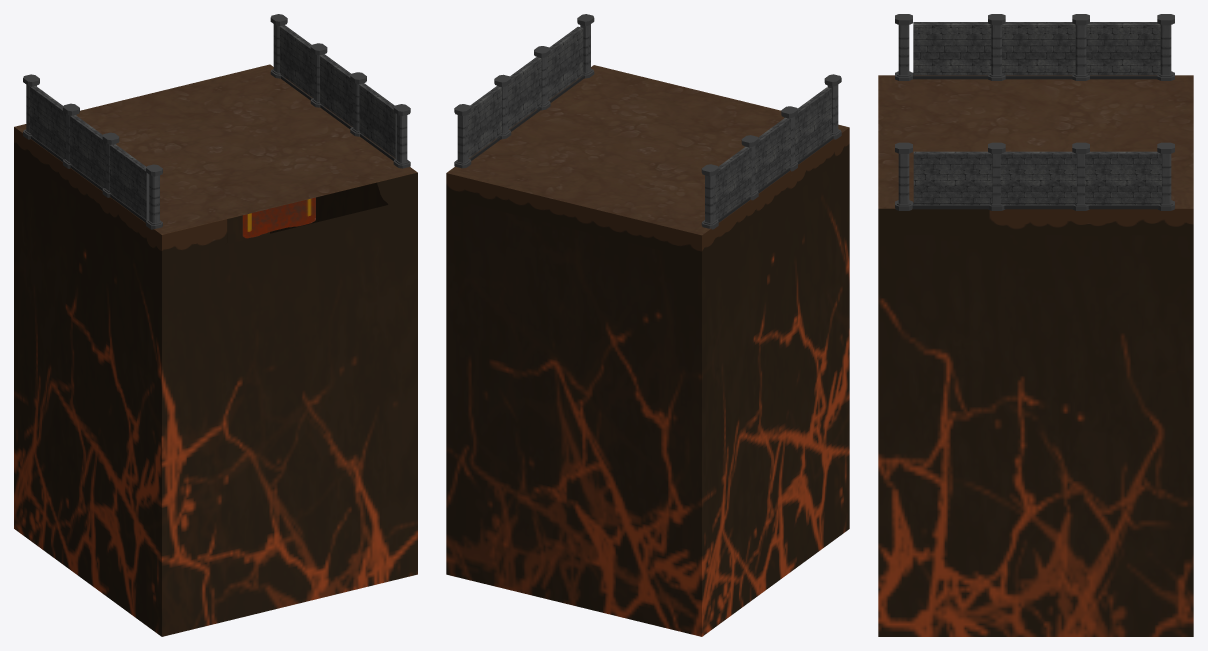
The model's file is Plataforma 1.fbx.
3 views of the same model, side by side, from view 1: azimuth 30°, elevation 25°; view 2: azimuth 150°, elevation 25°; view 3: azimuth 270°, elevation 25° (orthographic). The views are drawn at different scales.
Visible parts, largest first — view 1: Plataforma 1.005, Muro.014, Muro.009, Muro.013, Muro.012, Muro.011, Muro.010, Pilar.014, Pilar.015, Pilar.012, Pilar.009, Pilar.008; view 2: Plataforma 1.005, Muro.014, Muro.009, Muro.012, Muro.013, Muro.011, Muro.010, Pilar.012, Pilar.013, Pilar.014, Pilar.015, Pilar.008; view 3: Plataforma 1.005, Muro.009, Muro.014, Muro.011, Muro.010, Muro.012, Muro.013, Pilar.014, Pilar.015, Pilar.013, Pilar.010, Pilar.011 (+3 smaller).
Boxes of the visible parts, left/top/right/bottom form: Plataforma 1.005: left=14, top=64, right=417, bottom=636; Muro.014: left=109, top=144, right=149, bottom=222; Muro.009: left=359, top=83, right=396, bottom=160; Muro.013: left=70, top=115, right=105, bottom=190; Muro.012: left=30, top=86, right=65, bottom=161; Muro.011: left=279, top=25, right=313, bottom=100; Muro.010: left=319, top=54, right=353, bottom=128; Pilar.014: left=393, top=104, right=410, bottom=168; Pilar.015: left=146, top=164, right=162, bottom=229; Pilar.012: left=270, top=14, right=287, bottom=78; Pilar.009: left=310, top=43, right=327, bottom=107; Pilar.008: left=350, top=72, right=366, bottom=136; Plataforma 1.005: left=446, top=65, right=849, bottom=636; Muro.014: left=795, top=87, right=833, bottom=164; Muro.009: left=547, top=26, right=584, bottom=102; Muro.012: left=715, top=146, right=751, bottom=222; Muro.013: left=755, top=117, right=790, bottom=193; Muro.011: left=468, top=85, right=501, bottom=160; Muro.010: left=508, top=57, right=541, bottom=131; Pilar.012: left=454, top=104, right=471, bottom=168; Pilar.013: left=701, top=164, right=718, bottom=229; Pilar.014: left=577, top=14, right=594, bottom=78; Pilar.015: left=824, top=74, right=841, bottom=139; Pilar.008: left=534, top=46, right=550, bottom=110; Plataforma 1.005: left=878, top=75, right=1193, bottom=636; Muro.009: left=912, top=151, right=992, bottom=209; Muro.014: left=913, top=22, right=991, bottom=79; Muro.011: left=1085, top=151, right=1161, bottom=209; Muro.010: left=1000, top=151, right=1076, bottom=209; Muro.012: left=1086, top=22, right=1160, bottom=79; Muro.013: left=1002, top=22, right=1075, bottom=79; Pilar.014: left=895, top=142, right=912, bottom=210; Pilar.015: left=895, top=14, right=912, bottom=80; Pilar.013: left=1157, top=14, right=1174, bottom=80; Pilar.010: left=1072, top=14, right=1089, bottom=80; Pilar.011: left=988, top=14, right=1005, bottom=80.
Bounding box in the file's own units: 1014 × 1712 × 1000.
